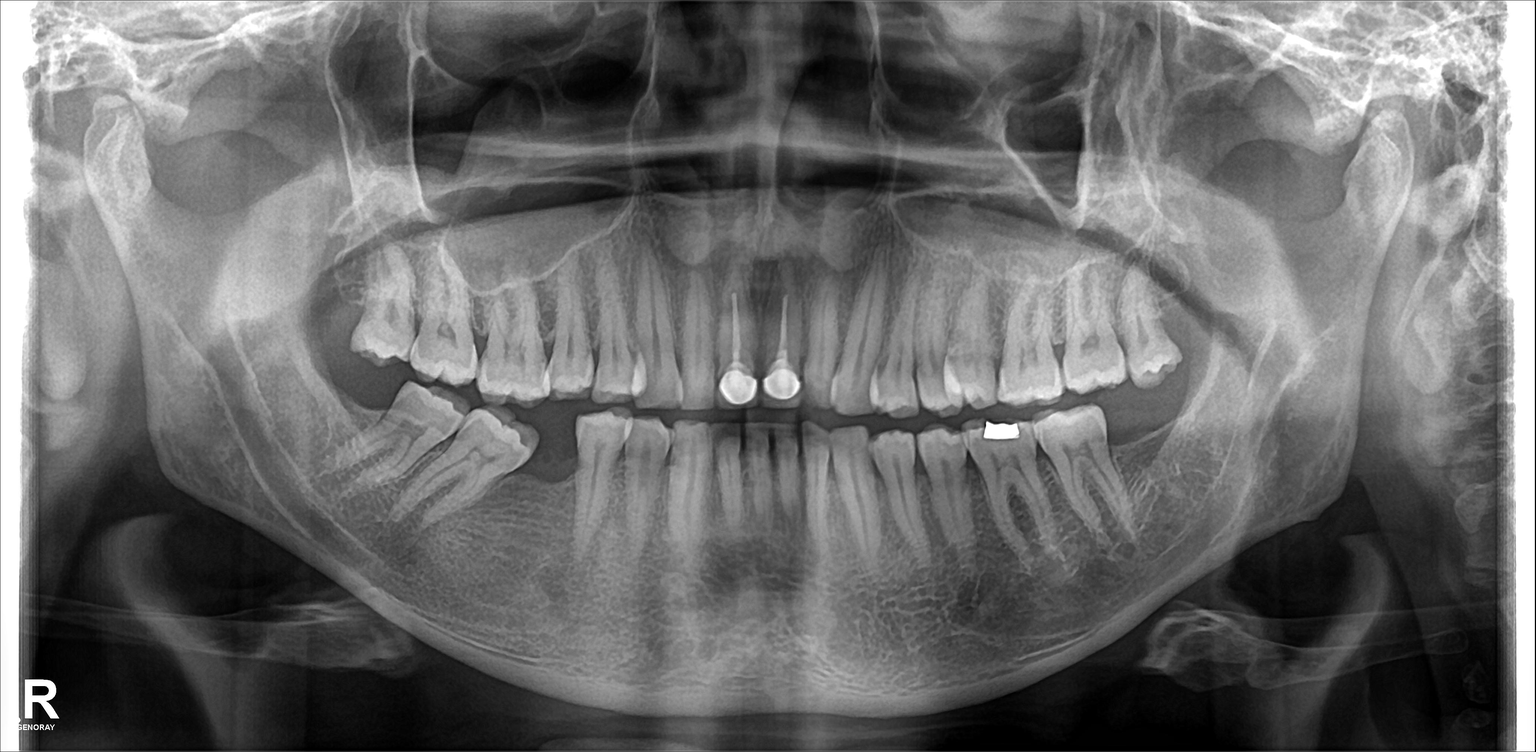Endodontically Treated Tooth: (762, 290, 807, 396), (715, 289, 752, 404)
Missing Tooth: (529, 424, 578, 551), (1113, 404, 1177, 492), (330, 357, 387, 447), (315, 262, 369, 343)
